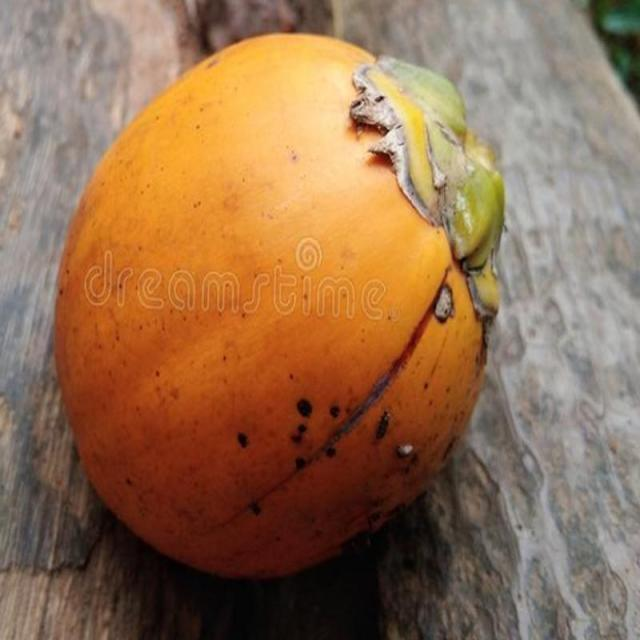good: (51, 33, 506, 589)
